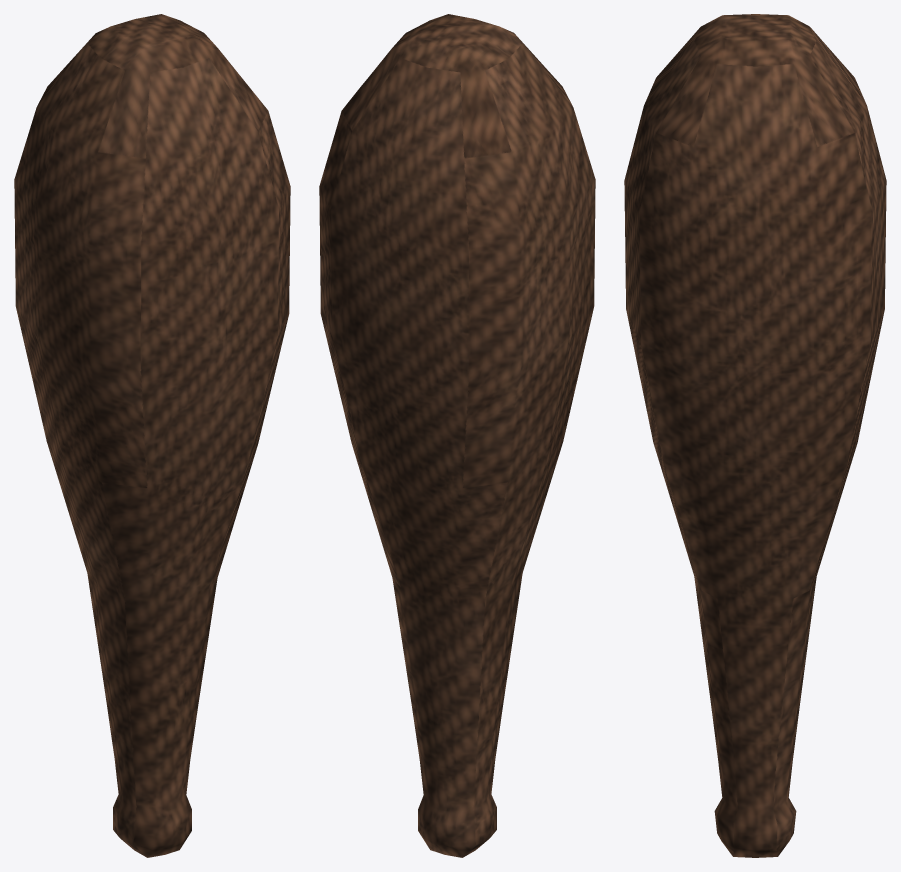
Rendered from Club_Weapon_004.fbx.
The picture shows the model from 3 angles, left to right: view 1: azimuth 30°, elevation 25°; view 2: azimuth 150°, elevation 25°; view 3: azimuth 270°, elevation 25°; orthographic projection.
Parts seen in each view (by area): view 1: Club1; view 2: Club1; view 3: Club1.
Boxes of the visible parts, x1,y1,x2,y2 form: Club1: (14,14,290,857); Club1: (319,14,595,857); Club1: (624,14,886,857).
Bounding box in the file's own units: 30.59 × 107 × 30.56.
1 material, 1 textured.
